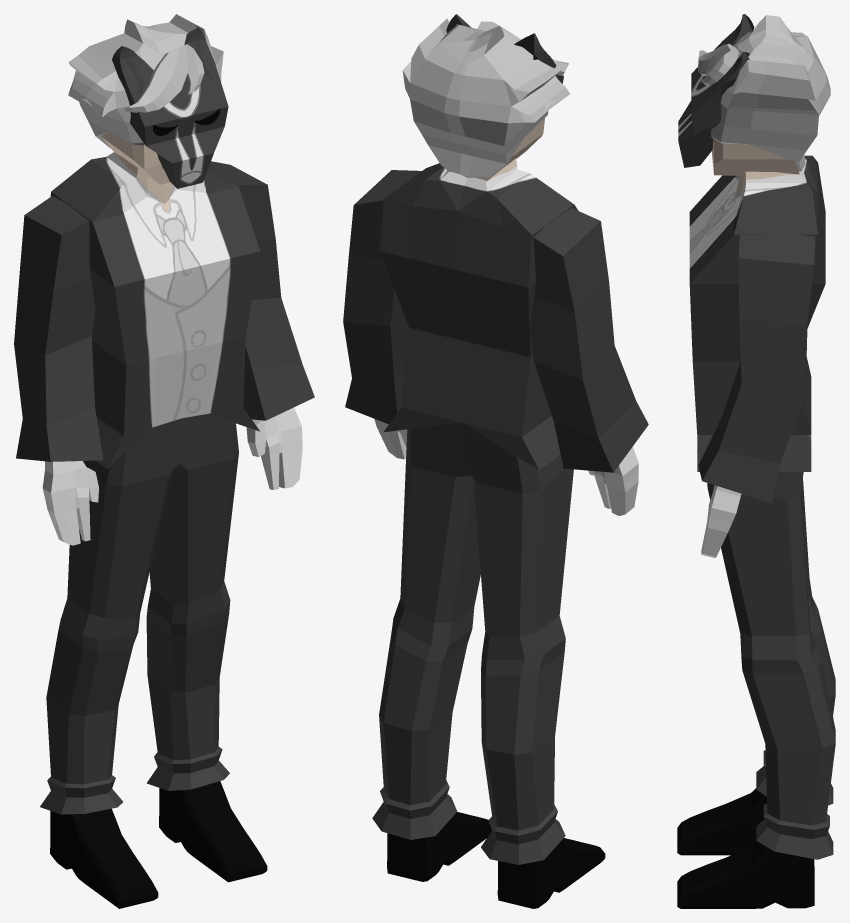
The model's file is Wolffull.fbx.
The picture shows the model from 3 angles, left to right: view 1: azimuth 30°, elevation 25°; view 2: azimuth 150°, elevation 25°; view 3: azimuth 270°, elevation 25°; orthographic projection.
Visible parts, largest first — view 1: Cube.005, Cube.006, Cube.007, Cube.003, Cube.004, Cube.002, Cube.008, Cube.001; view 2: Cube.005, Cube.006, Cube.007, Cube.004, Cube.003, Cube.008, Cube.002; view 3: Cube.005, Cube.006, Cube.007, Cube.004, Cube.003, Cube.002, Cube.001, Cube.008.
Boxes of the visible parts, <box> form: Cube.005: <box>40,414,238,814</box>; Cube.006: <box>50,152,260,468</box>; Cube.007: <box>14,161,314,461</box>; Cube.003: <box>50,781,267,908</box>; Cube.004: <box>68,14,223,148</box>; Cube.002: <box>112,27,228,188</box>; Cube.008: <box>42,407,302,545</box>; Cube.001: <box>100,132,170,184</box>; Cube.005: <box>372,422,573,864</box>; Cube.006: <box>380,158,578,470</box>; Cube.007: <box>343,170,648,472</box>; Cube.004: <box>402,18,570,177</box>; Cube.003: <box>387,812,605,908</box>; Cube.008: <box>374,419,638,515</box>; Cube.002: <box>446,14,563,83</box>; Cube.005: <box>707,472,835,859</box>; Cube.006: <box>689,155,825,471</box>; Cube.007: <box>698,234,815,503</box>; Cube.004: <box>698,15,830,171</box>; Cube.003: <box>677,788,814,908</box>; Cube.002: <box>678,14,754,167</box>; Cube.001: <box>711,138,799,175</box>; Cube.008: <box>701,485,741,557</box>.
Bounding box in the file's own units: 95.57 × 291 × 49.08.
